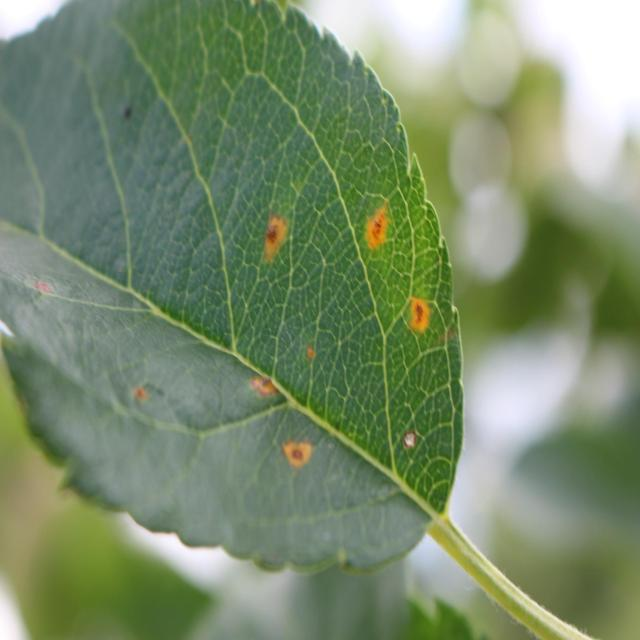Rust: (355, 175, 402, 271), (257, 189, 302, 274), (279, 429, 319, 491), (404, 281, 434, 361), (238, 358, 280, 412), (23, 260, 56, 314), (126, 360, 158, 415), (300, 330, 316, 366)
